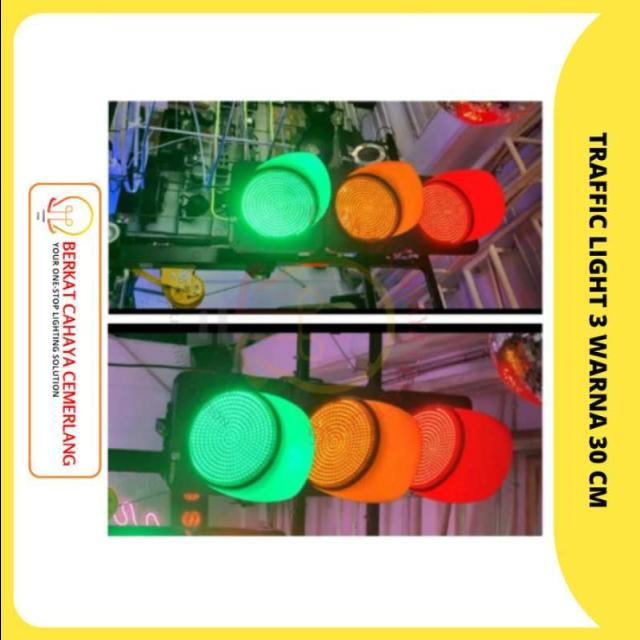green-lights: (188, 392, 274, 488), (240, 168, 314, 238)
red-lights: (416, 172, 486, 246), (405, 412, 464, 494)
yellow-lights: (304, 399, 376, 489), (337, 174, 401, 240)
